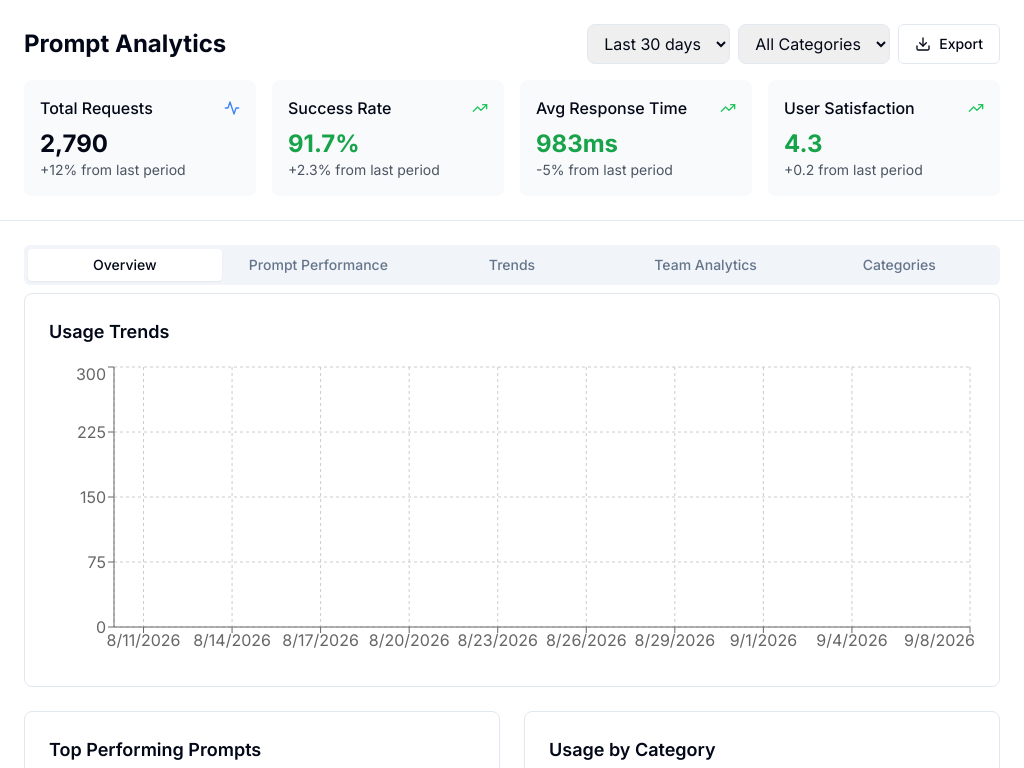
Test: AnalyticsDashboard › displays trends tab with performance charts
Step 1. Click the tab "Trends" → (512, 265), box [415,249,609,281]
(page scrolled)
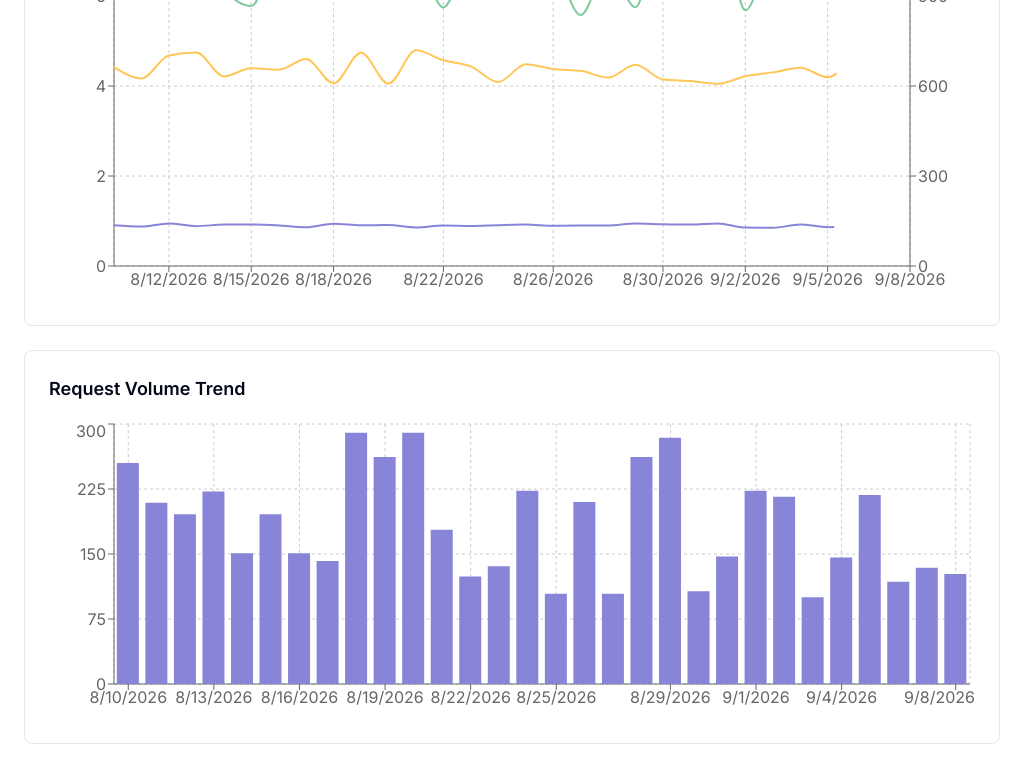
Now the heading "Request Volume Trend" is shown, box [49,378,246,399]
